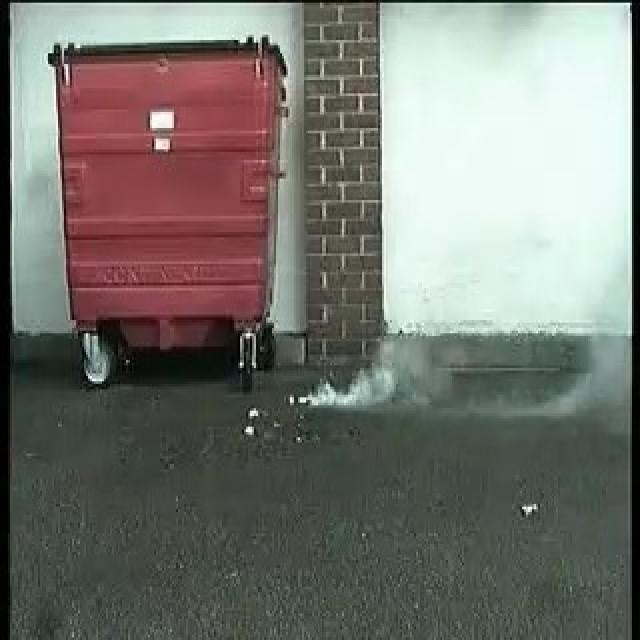smoke: (300, 330, 446, 411)
